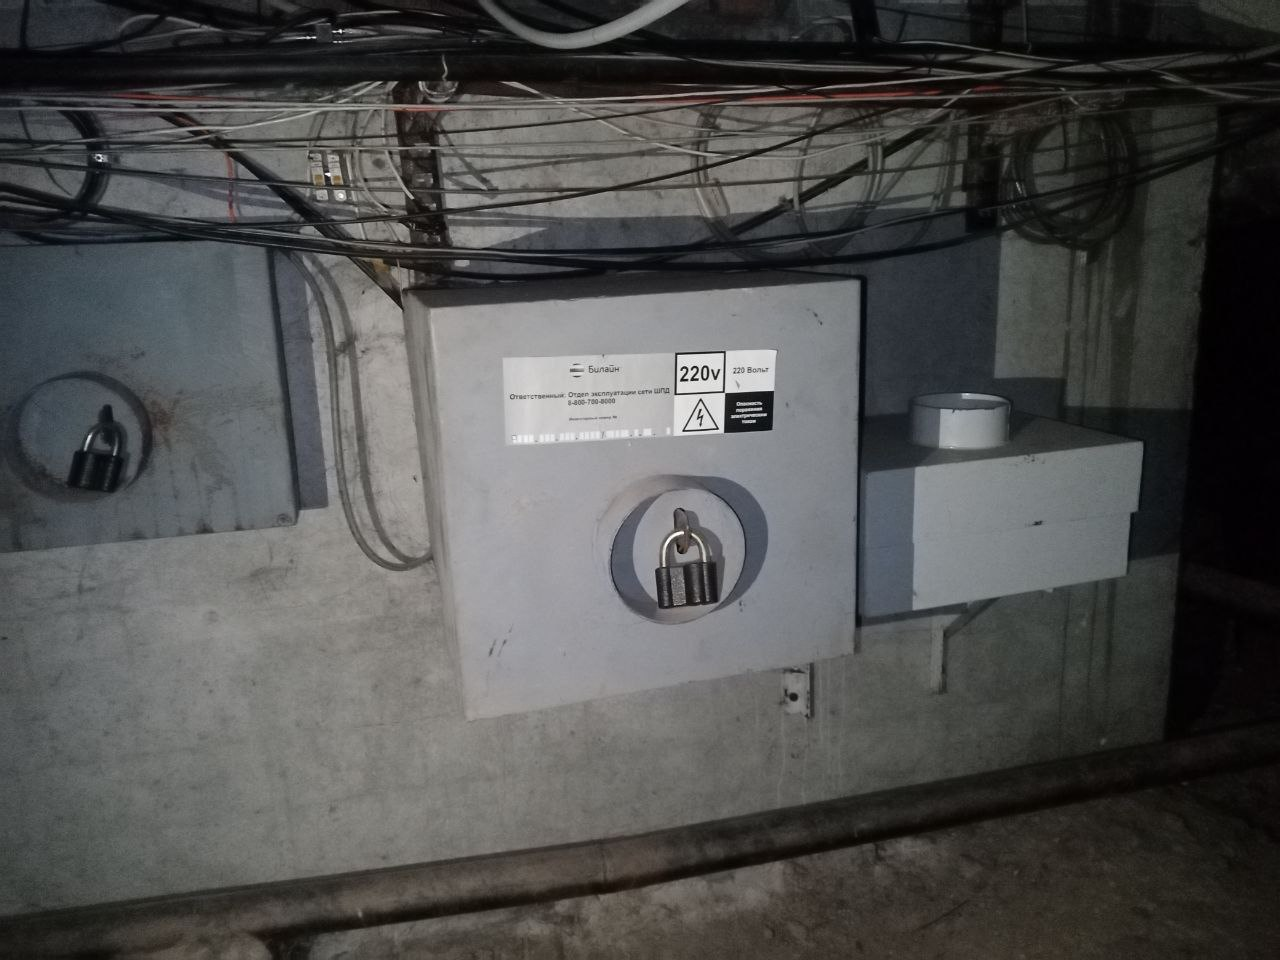shta-3: (7, 223, 314, 556)
shta-9: (391, 252, 866, 731)
shta-ps: (845, 384, 1144, 632)
